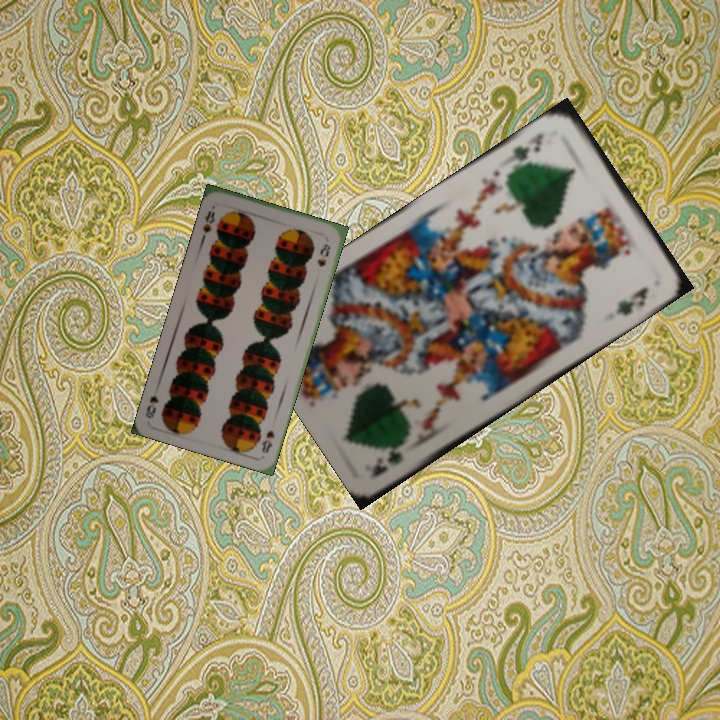GK: (367, 435, 412, 480), (504, 128, 547, 169)
S8: (198, 207, 218, 241), (258, 426, 277, 456)
